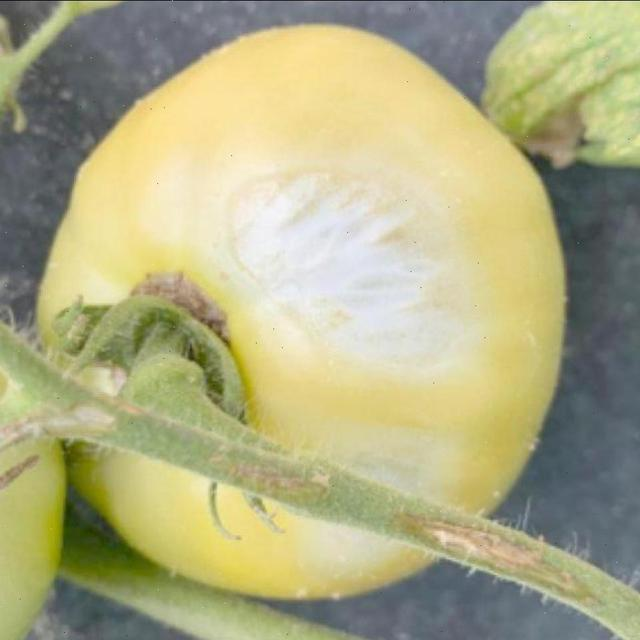Sunscald Fruit: (118, 100, 242, 325)
